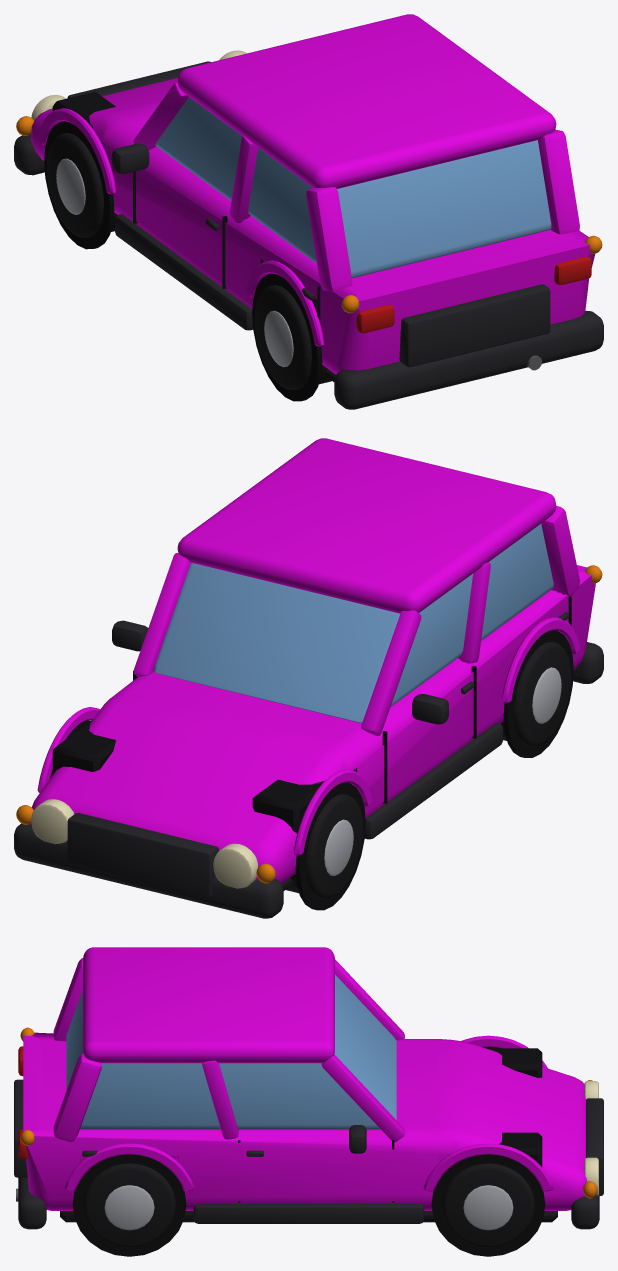
File: HonkerPip.fbx
3 views of the same model, one above another, from view 1: azimuth 30°, elevation 25°; view 2: azimuth 150°, elevation 25°; view 3: azimuth 270°, elevation 25° (orthographic). The views are drawn at different scales.
Visible parts, largest first — view 1: HonkerPip; view 2: HonkerPip; view 3: HonkerPip.
Part boxes in pixels (x1=…): HonkerPip: x1=14, y1=14, x2=603, y2=409; HonkerPip: x1=14, y1=438, x2=603, y2=918; HonkerPip: x1=14, y1=947, x2=603, y2=1256.
Size of the model in its own units: 2.26 by 1.57 by 4.03.
